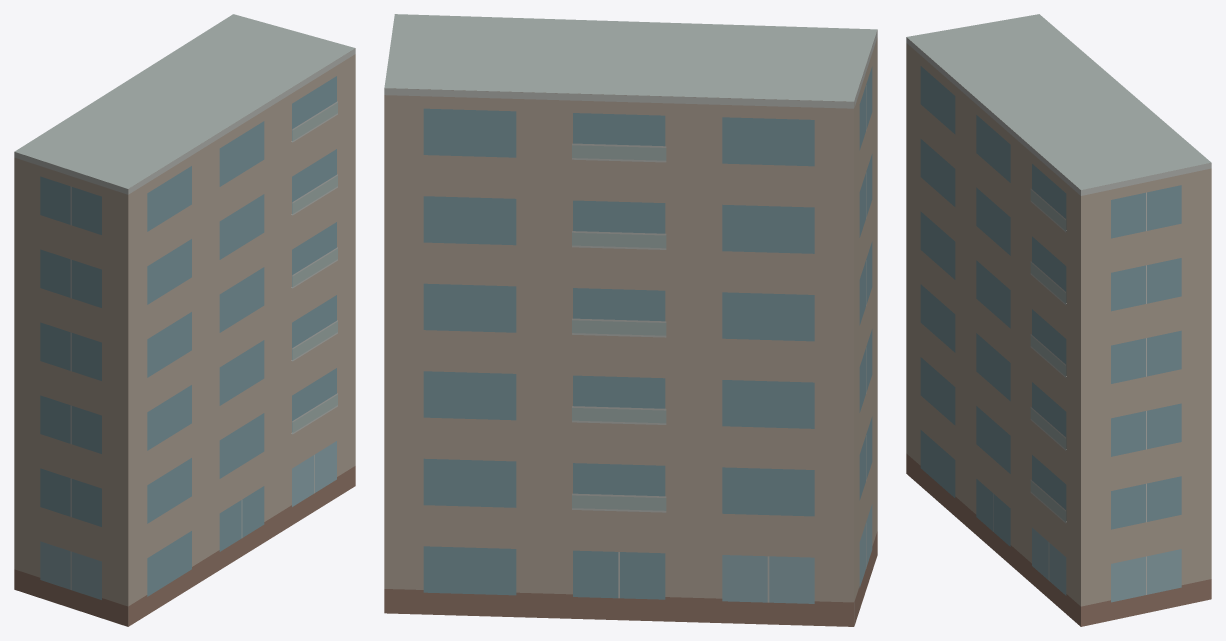
Rendered from survey-upis-32880958.glb.
3 renders of one model, left to right at view 1: azimuth 30°, elevation 25°; view 2: azimuth 150°, elevation 25°; view 3: azimuth 270°, elevation 25°, orthographic. The views are drawn at different scales.
Parts seen in each view (by area): view 1: survey-upis-32880958.tmp; view 2: survey-upis-32880958.tmp; view 3: survey-upis-32880958.tmp.
Boxes of the visible parts, x1=… form: survey-upis-32880958.tmp: x1=14, y1=14, x2=355, y2=626; survey-upis-32880958.tmp: x1=384, y1=14, x2=877, y2=626; survey-upis-32880958.tmp: x1=906, y1=14, x2=1211, y2=626.
Bounding box in the file's own units: 15.85 × 18.3 × 11.6.
